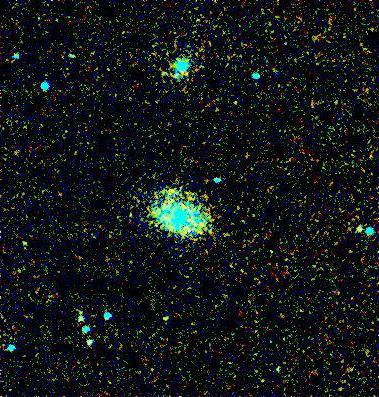star: (145, 298, 175, 328)
